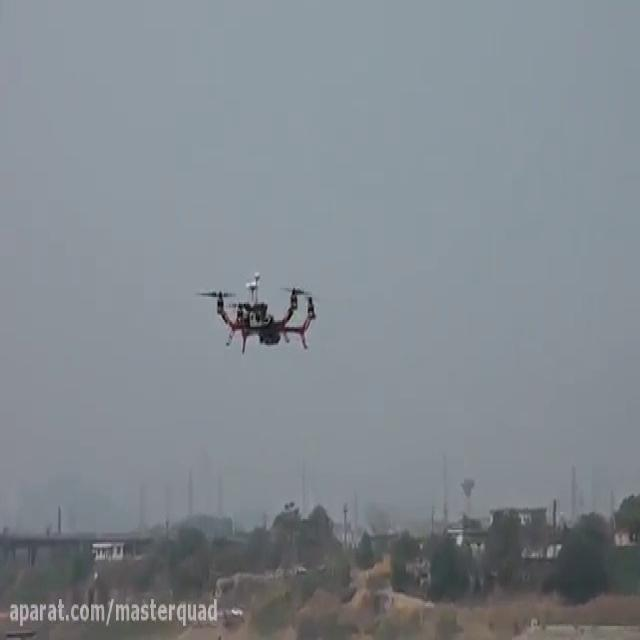drone: (193, 263, 324, 359)
